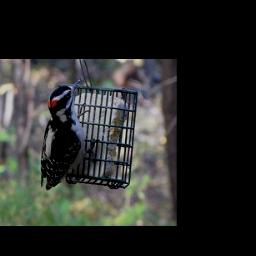Woodpecker: (40, 77, 98, 191)
